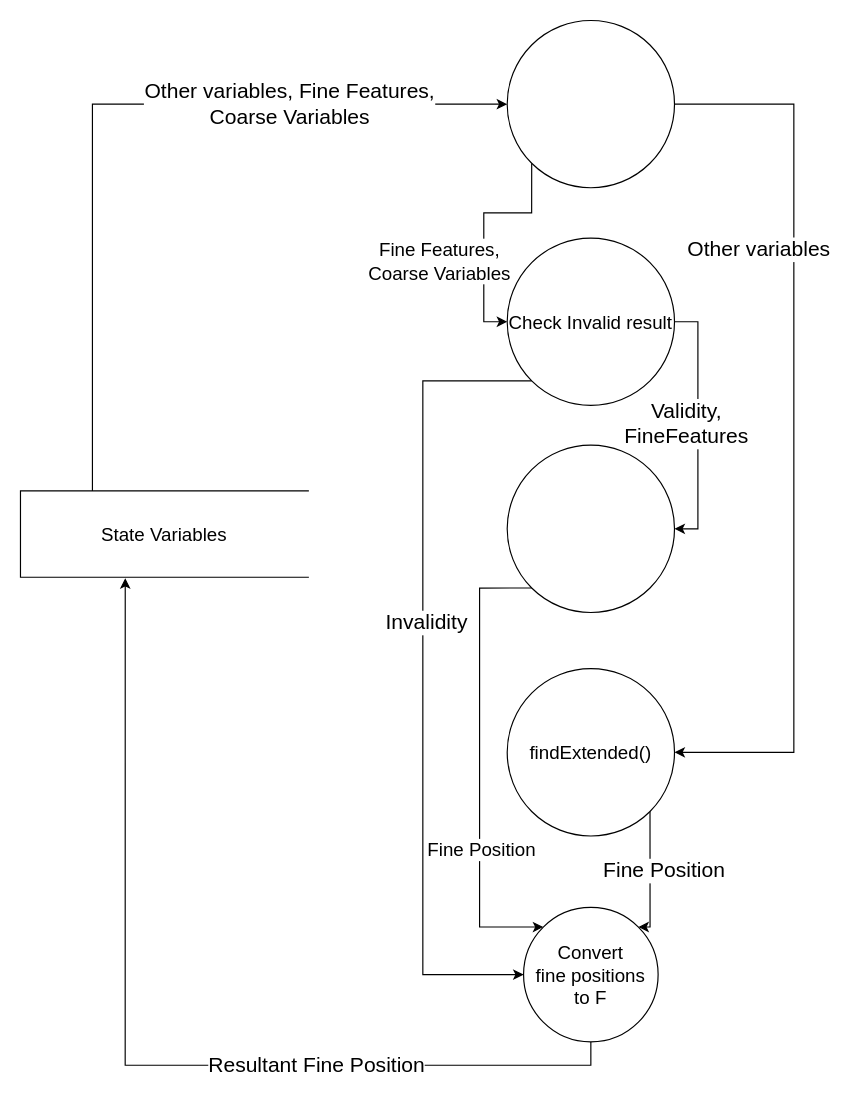
Image size: 849x1097. Some labels were removed from this diagram. Here are the shapes that lost their labels. From the top down, the centre of each, then its label:
point 590,103: Checking whether in normal or extended set
point 590,528: findFinePositions()
